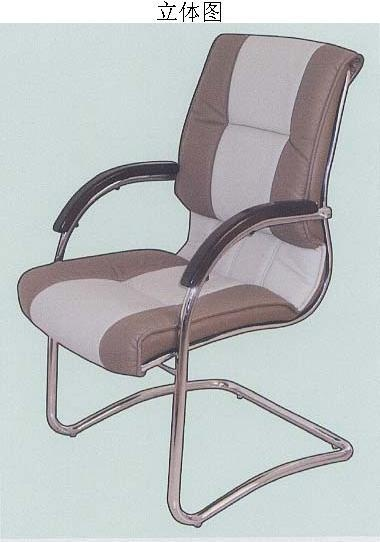obstacle: (18, 34, 362, 526)
